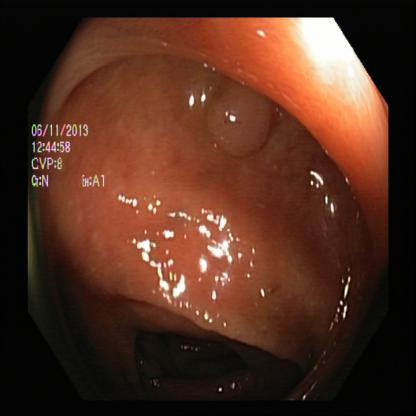Labels: (22, 114, 121, 201)
Polyps: (200, 78, 284, 163)
